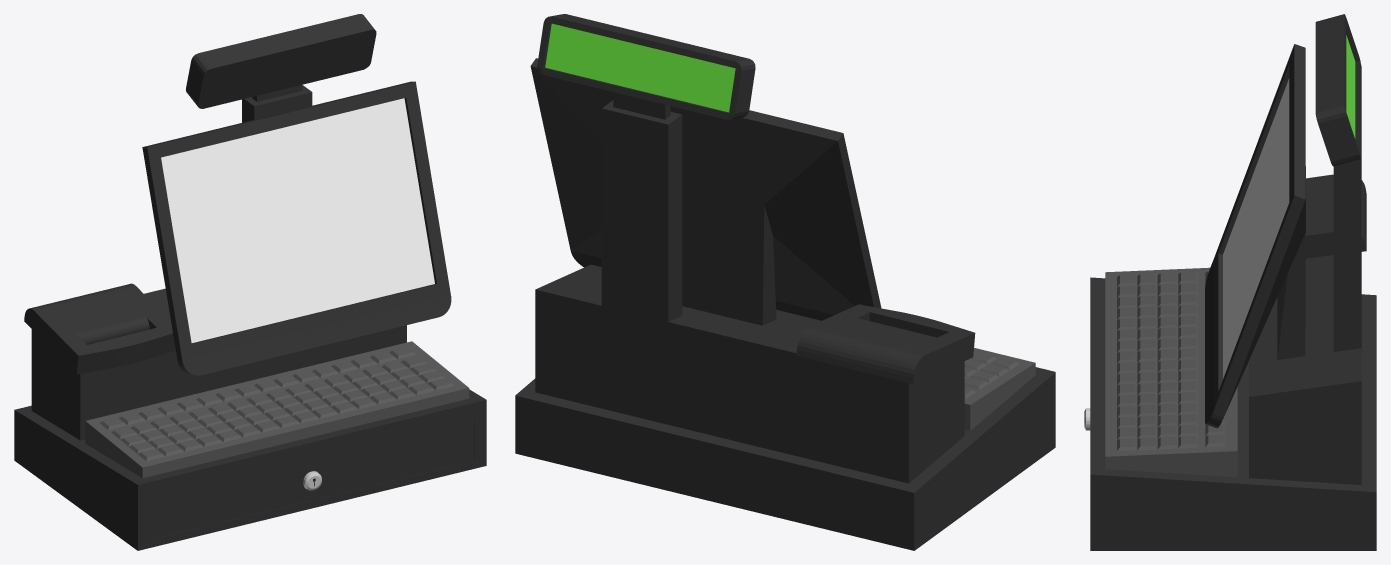
Rendered from Register.fbx.
3 views of the same model, side by side, from view 1: azimuth 30°, elevation 25°; view 2: azimuth 150°, elevation 25°; view 3: azimuth 270°, elevation 25° (orthographic). The views are drawn at different scales.
Parts seen in each view (by area): view 1: Register, Money Drawer; view 2: Register; view 3: Register.
Part boxes in pixels (left/top/right/bottom): Register: left=14, top=14, right=486, bottom=550; Money Drawer: left=148, top=420, right=474, bottom=539; Register: left=515, top=14, right=1055, bottom=550; Register: left=1090, top=14, right=1376, bottom=550.
Size of the model in its own units: 85.52 by 83.94 by 51.05.
